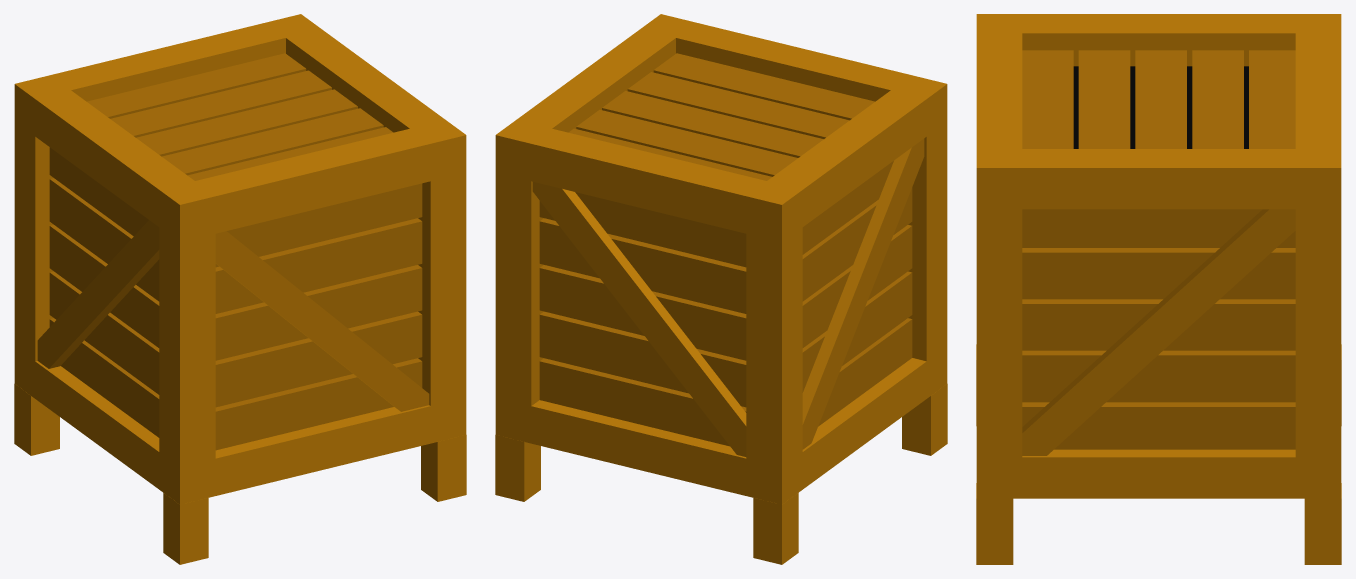
Rendered from crate.glb.
3 views of the same model, side by side, from view 1: azimuth 30°, elevation 25°; view 2: azimuth 150°, elevation 25°; view 3: azimuth 270°, elevation 25° (orthographic). The views are drawn at different scales.
Parts seen in each view (by area): view 1: Crate; view 2: Crate; view 3: Crate.
Part boxes in pixels (x1=…): Crate: x1=14, y1=14, x2=466, y2=564; Crate: x1=495, y1=14, x2=947, y2=564; Crate: x1=976, y1=14, x2=1341, y2=564.
Size of the model in its own units: 1 by 1.2 by 1.
